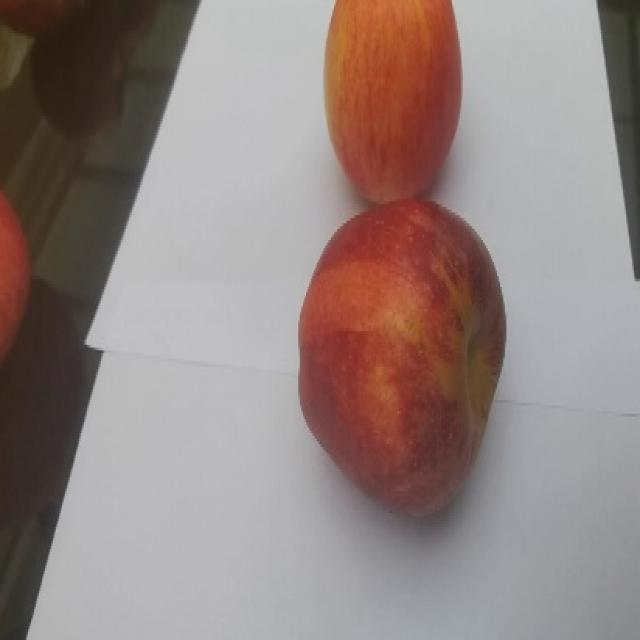Apple: (296, 197, 507, 519), (322, 0, 463, 204), (0, 188, 32, 365)
